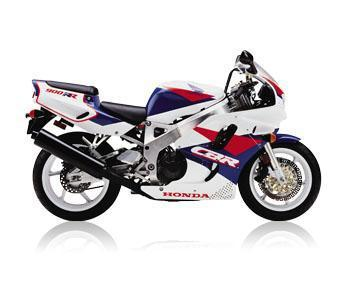motorcycle: (18, 39, 333, 232)
